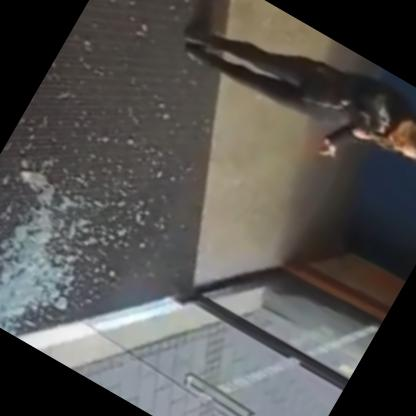Human Body: (164, 0, 415, 212)
